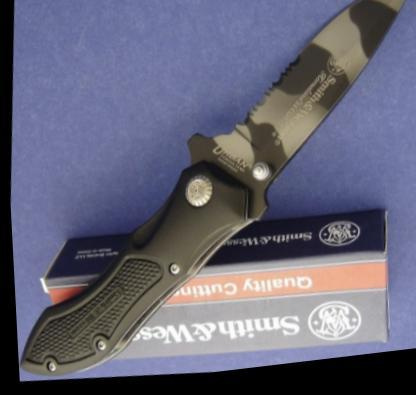knife: (192, 0, 415, 231)
